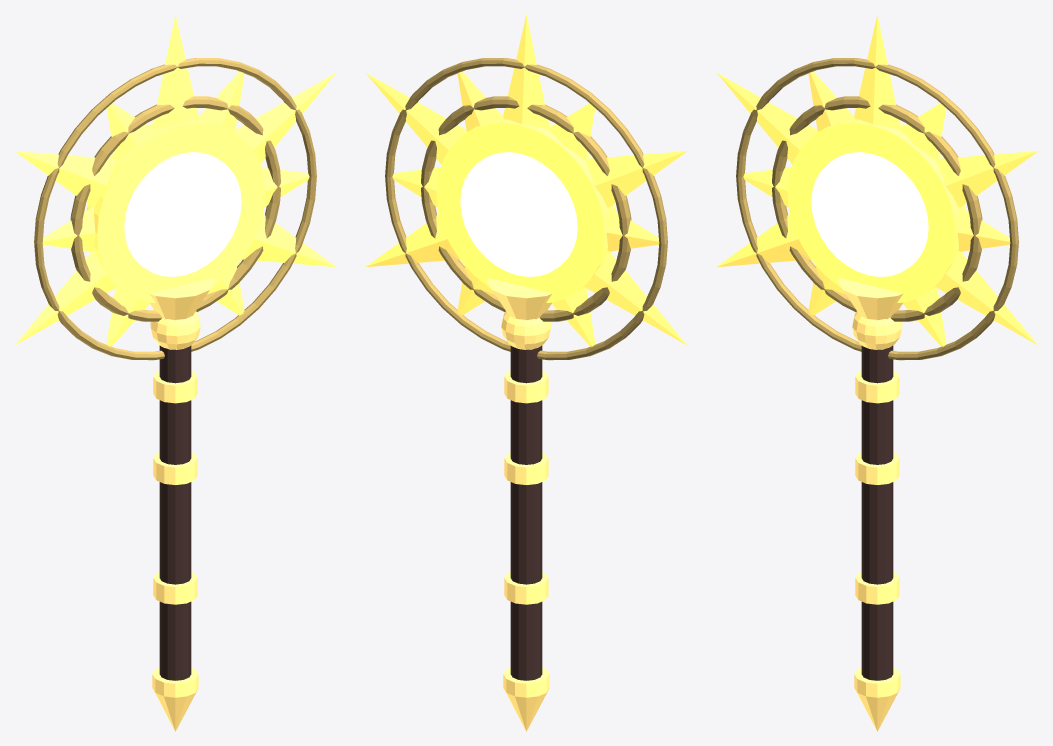
File: zenith.glb
The picture shows the model from 3 angles, left to right: view 1: azimuth 30°, elevation 25°; view 2: azimuth 150°, elevation 25°; view 3: azimuth 330°, elevation 25°; orthographic projection.
Visible parts, largest first — view 1: Sun, Staff, Halo, Charge; view 2: Sun, Staff, Halo, Charge; view 3: Sun, Staff, Halo, Charge.
Part boxes in pixels (box(x1,y1,x2,y2)): Sun: box(14, 14, 336, 346); Staff: box(149, 278, 215, 731); Halo: box(34, 58, 316, 360); Charge: box(70, 96, 280, 321); Sun: box(365, 14, 687, 346); Staff: box(486, 278, 552, 731); Halo: box(385, 58, 667, 360); Charge: box(421, 96, 631, 321); Sun: box(716, 14, 1038, 346); Staff: box(837, 278, 903, 731); Halo: box(736, 58, 1018, 360); Charge: box(772, 96, 982, 321).
Bounding box in the file's own units: 0.5369 × 1.14 × 0.115.
